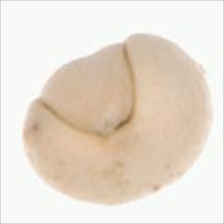L5: (35, 36, 138, 138)
L6: (21, 32, 214, 207)
